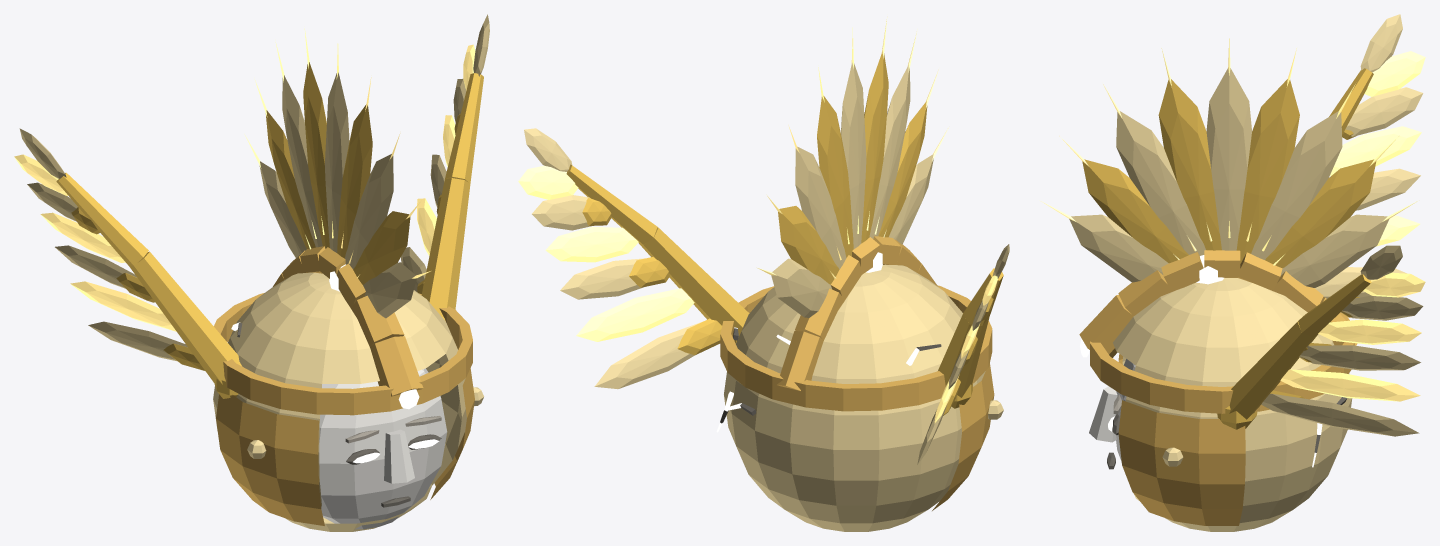
The model's file is first_guardian_helm.glb.
3 views of the same model, side by side, from view 1: azimuth 30°, elevation 25°; view 2: azimuth 150°, elevation 25°; view 3: azimuth 270°, elevation 25° (orthographic). The views are drawn at different scales.
Visible parts, largest first — view 1: first_guardian_helm; view 2: first_guardian_helm; view 3: first_guardian_helm.
Boxes of the visible parts, <box> form: first_guardian_helm: <box>14,14,489,531</box>; first_guardian_helm: <box>518,17,1009,531</box>; first_guardian_helm: <box>1039,14,1425,531</box>.
Bounding box in the file's own units: 1.56 × 1.53 × 1.1.
